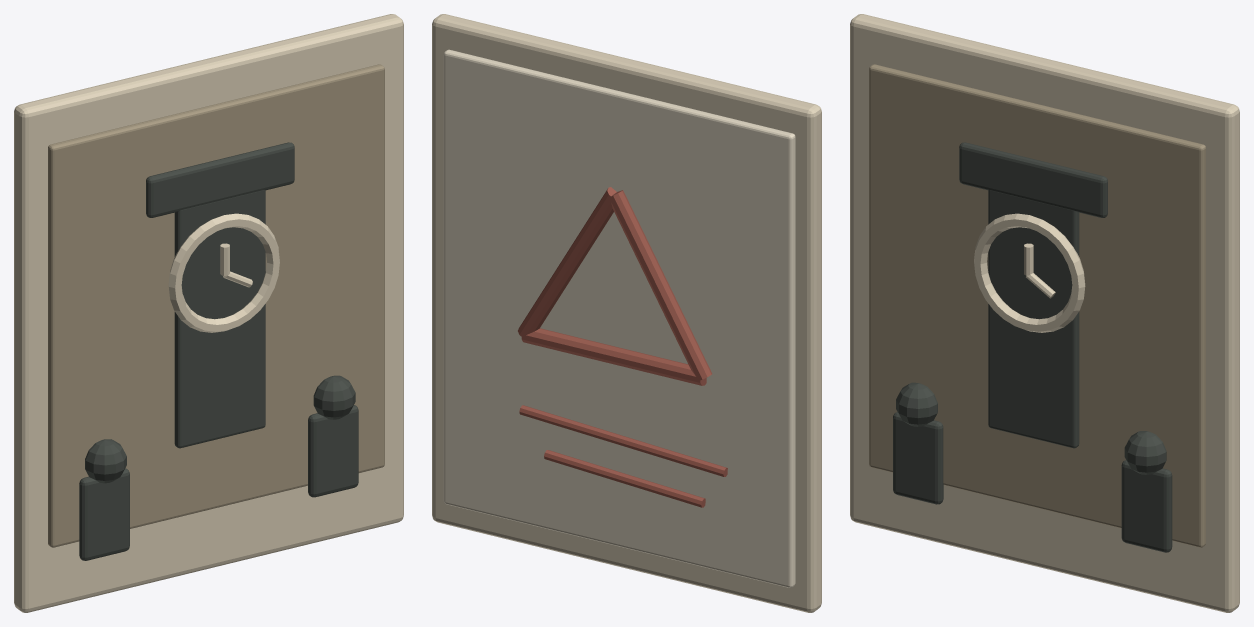
The model's file is photo-clock-triangle-v1-CfKJ5hwD.glb.
3 renders of one model, left to right at view 1: azimuth 30°, elevation 25°; view 2: azimuth 150°, elevation 25°; view 3: azimuth 330°, elevation 25°, orthographic.
Parts seen in each view (by area): view 1: Sepia front, Photo card, Clock tower, Clock tower roof, Old station clock, Anonymous figure body 2, Anonymous figure body 1, Anonymous figure head 2, Anonymous figure head 1; view 2: Plain photo back, Photo card, Hand drawn triangle side 1, Hand drawn triangle side 2, Hand drawn triangle side 3, Back note line one, Back note line two; view 3: Sepia front, Photo card, Clock tower, Clock tower roof, Old station clock, Anonymous figure body 2, Anonymous figure body 1, Anonymous figure head 2, Anonymous figure head 1.
Part boxes in pixels (left/top/right/bottom): Sepia front: left=48, top=64, right=384, bottom=547; Photo card: left=14, top=14, right=403, bottom=612; Clock tower: left=174, top=190, right=265, bottom=448; Clock tower roof: left=146, top=142, right=294, bottom=217; Old station clock: left=168, top=213, right=279, bottom=332; Anonymous figure body 2: left=308, top=405, right=358, bottom=497; Anonymous figure body 1: left=79, top=468, right=129, bottom=560; Anonymous figure head 2: left=313, top=375, right=355, bottom=419; Anonymous figure head 1: left=85, top=439, right=126, bottom=483; Plain photo back: left=443, top=49, right=795, bottom=587; Photo card: left=432, top=14, right=821, bottom=612; Hand drawn triangle side 1: left=609, top=190, right=712, bottom=380; Hand drawn triangle side 2: left=521, top=328, right=706, bottom=385; Hand drawn triangle side 3: left=518, top=187, right=616, bottom=337; Back note line one: left=519, top=405, right=727, bottom=476; Back note line two: left=544, top=450, right=705, bottom=507; Sepia front: left=869, top=64, right=1205, bottom=547; Photo card: left=850, top=14, right=1239, bottom=612; Clock tower: left=988, top=190, right=1079, bottom=448; Clock tower roof: left=959, top=142, right=1107, bottom=217; Old station clock: left=974, top=213, right=1085, bottom=332; Anonymous figure body 2: left=1121, top=460, right=1172, bottom=552; Anonymous figure body 1: left=893, top=412, right=943, bottom=504; Anonymous figure head 2: left=1124, top=431, right=1166, bottom=474; Anonymous figure head 1: left=896, top=382, right=937, bottom=426.
Size of the model in its own units: 1.56 by 1.96 by 0.2704.
